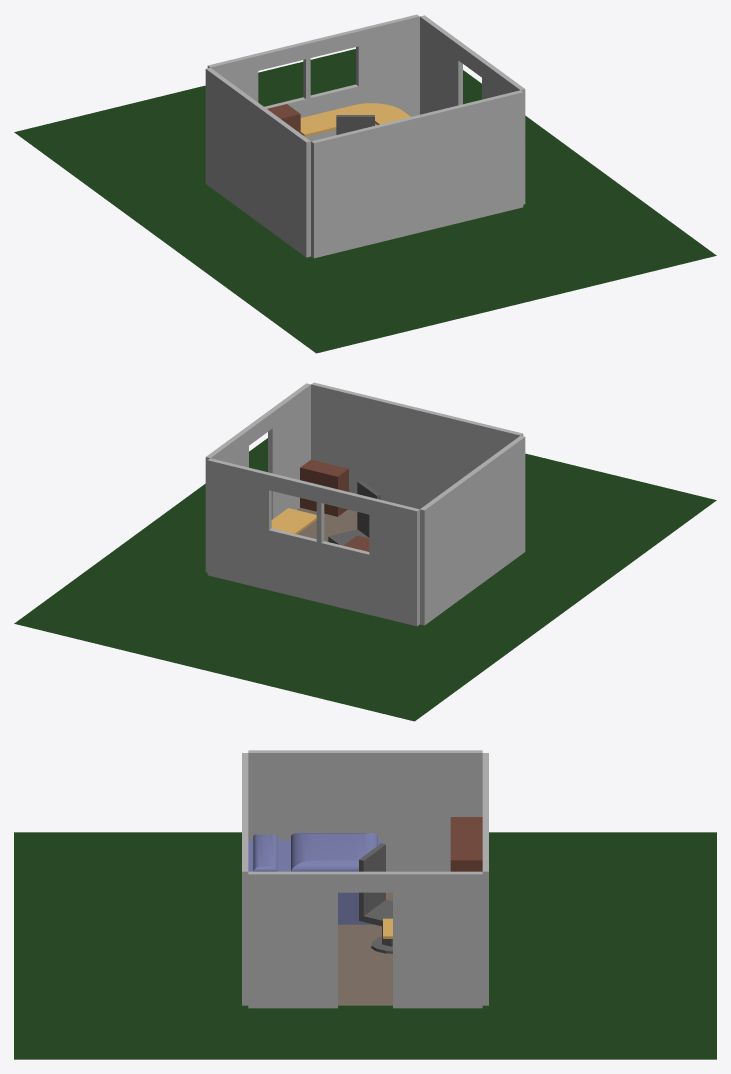
File: Zimmer.fbx
The picture shows the model from 3 angles, top to bottom: view 1: azimuth 30°, elevation 25°; view 2: azimuth 150°, elevation 25°; view 3: azimuth 270°, elevation 25°; orthographic projection. The views are drawn at different scales.
Parts seen in each view (by area): view 1: Plane.003, Cube.003, Plane.002, Plane.001, Cube, Cube.001, Plane.004, Cube.002, Cube.004, Cube.009; view 2: Plane.003, Cube.001, Plane.004, Cube.003, Plane.001, Cube, Cube.002, Plane.002, Cube.008, Plane, Cube.009, Cube.005; view 3: Plane.001, Plane.002, Plane.004, Cube.002, Plane.003, Cube, Cube.006, Plane, Cube.009, Cube.007, Cube.001, Cube.003.
Boxes of the visible parts, x1=… form: Plane.003: x1=14, y1=109, x2=411, y2=353; Cube.003: x1=311, y1=90, x2=523, y2=258; Plane.002: x1=314, y1=207, x2=620, y2=329; Plane.001: x1=319, y1=49, x2=716, y2=278; Cube: x1=205, y1=67, x2=310, y2=257; Cube.001: x1=207, y1=14, x2=419, y2=141; Plane.004: x1=110, y1=58, x2=355, y2=178; Cube.002: x1=420, y1=15, x2=525, y2=204; Cube.004: x1=300, y1=105, x2=366, y2=136; Cube.009: x1=336, y1=115, x2=374, y2=134; Plane.003: x1=319, y1=477, x2=716, y2=721; Cube.001: x1=207, y1=458, x2=419, y2=626; Plane.004: x1=110, y1=575, x2=416, y2=697; Cube.003: x1=311, y1=382, x2=523, y2=509; Plane.001: x1=14, y1=438, x2=267, y2=646; Cube: x1=420, y1=435, x2=525, y2=625; Cube.002: x1=205, y1=383, x2=310, y2=572; Plane.002: x1=525, y1=453, x2=620, y2=546; Cube.008: x1=300, y1=459, x2=348, y2=516; Plane: x1=297, y1=507, x2=357, y2=541; Cube.009: x1=328, y1=481, x2=380, y2=545; Cube.005: x1=271, y1=508, x2=316, y2=534; Plane.001: x1=14, y1=1005, x2=716, y2=1059; Plane.002: x1=14, y1=886, x2=241, y2=1005; Plane.004: x1=489, y1=886, x2=716, y2=1005; Cube.002: x1=248, y1=871, x2=482, y2=1008; Plane.003: x1=14, y1=832, x2=716, y2=886; Cube: x1=248, y1=750, x2=482, y2=871; Cube.006: x1=248, y1=833, x2=382, y2=924; Plane: x1=338, y1=892, x2=392, y2=1005; Cube.009: x1=359, y1=843, x2=392, y2=953; Cube.007: x1=450, y1=817, x2=482, y2=871; Cube.001: x1=482, y1=753, x2=488, y2=1005; Cube.003: x1=242, y1=753, x2=248, y2=1005.
Size of the model in its own units: 838 by 230 by 1095.
